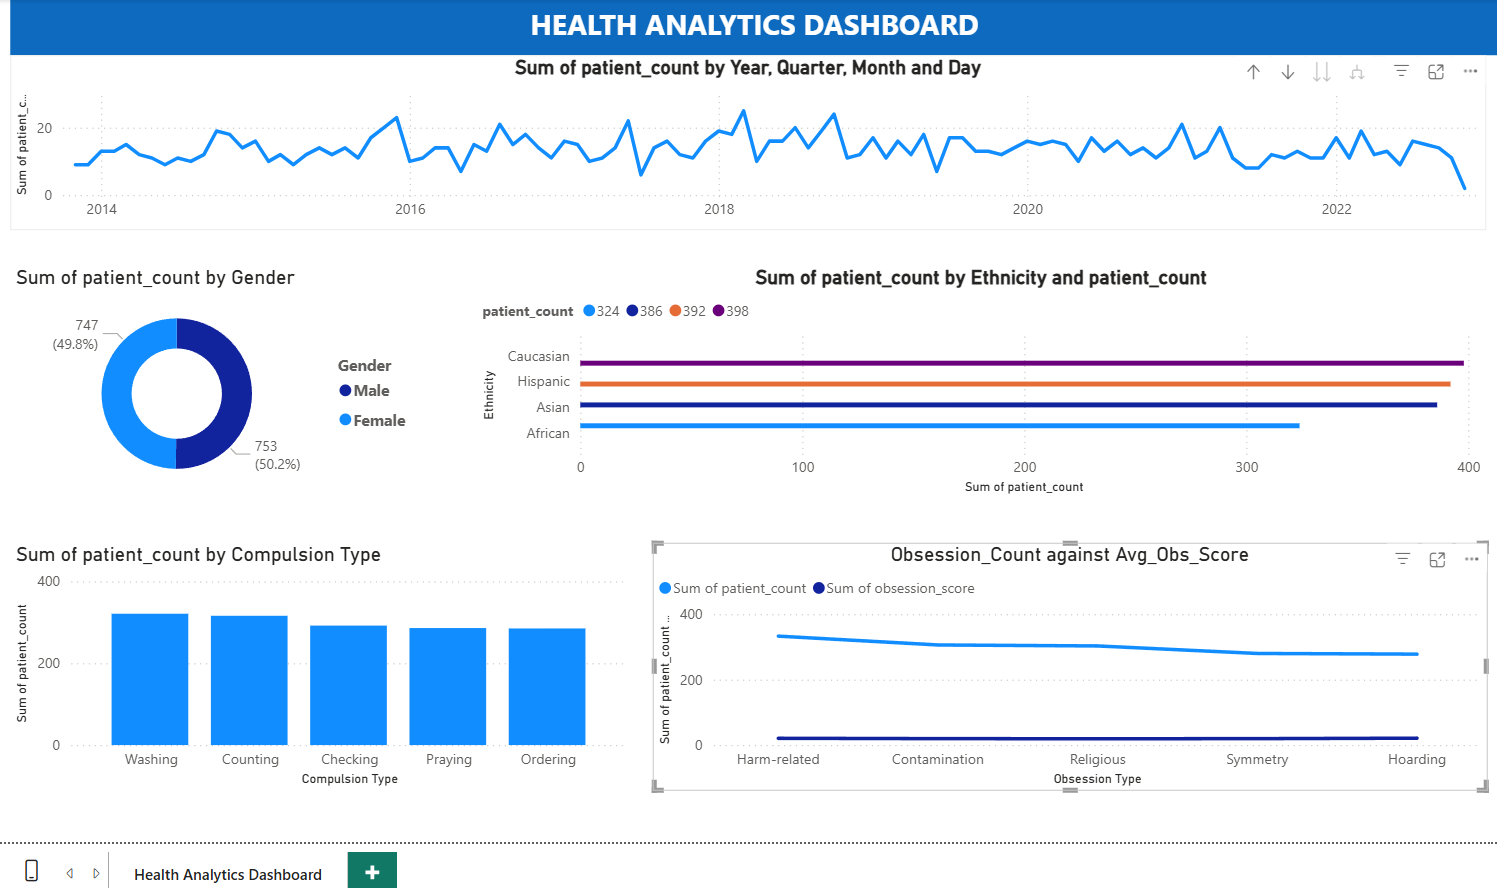

The page's visual inventory and layout, read from the dashboard file:
{"tool":"powerbi","page":{"name":"Page 1","canvas":[1280,720],"ordinal":0},"visuals":[{"type":"textbox","box":[9.6,0,1270.7,48],"z":0},{"type":"lineChart","fields":{"Y":["Sum(Diagnosed mom.patient_count)"],"Category":["Diagnosed mom.month.Variation.Date Hierarchy.Year","Diagnosed mom.month.Variation.Date Hierarchy.Quarter","Diagnosed mom.month.Variation.Date Hierarchy.Month","Diagnosed mom.month.Variation.Date Hierarchy.Day"]},"box":[9.6,48,1259.7,149.6],"z":1000},{"type":"donutChart","fields":{"Category":["Gender.Gender"],"Y":["Sum(Gender.patient_count)"]},"box":[9.6,227.8,352.7,200.3],"z":2000},{"type":"clusteredBarChart","fields":{"Category":["Ethinicity.Ethnicity"],"Y":["Sum(Ethinicity.patient_count)"],"Series":["Ethinicity.patient_count"]},"box":[407.5,227.8,861.8,200.3],"z":3000},{"type":"columnChart","fields":{"Category":["Compulsion_type.Compulsion Type"],"Y":["Sum(Compulsion_type.patient_count)"]},"box":[9.6,463.8,532.4,212.7],"z":4000},{"type":"lineChart","title":"Obsession_Count against Avg_Obs_Score","fields":{"Category":["Obs_type.Obsession Type"],"Y":["Sum(Obs_type.patient_count)","Sum(Obs_type.obsession_score)"]},"box":[558.5,463.8,712.2,212.7],"z":4001}]}

Visuals, with their boxes on the page's 1280x720 design canvas (x1, y1, x2, y2). These are canvas units, not pixel positions in the 1497x888 screenshot, which may show the page scaled, cropped or inside an application window:
textbox: <region>10, 0, 1280, 48</region>
lineChart - Sum(Diagnosed mom.patient_count) x Diagnosed mom.month.Variation.Date Hierarchy.Year: <region>10, 48, 1269, 198</region>
donutChart - Gender.Gender x Sum(Gender.patient_count): <region>10, 228, 362, 428</region>
clusteredBarChart - Ethinicity.Ethnicity x Sum(Ethinicity.patient_count): <region>408, 228, 1269, 428</region>
columnChart - Compulsion_type.Compulsion Type x Sum(Compulsion_type.patient_count): <region>10, 464, 542, 676</region>
"Obsession_Count against Avg_Obs_Score" lineChart: <region>558, 464, 1271, 676</region>
